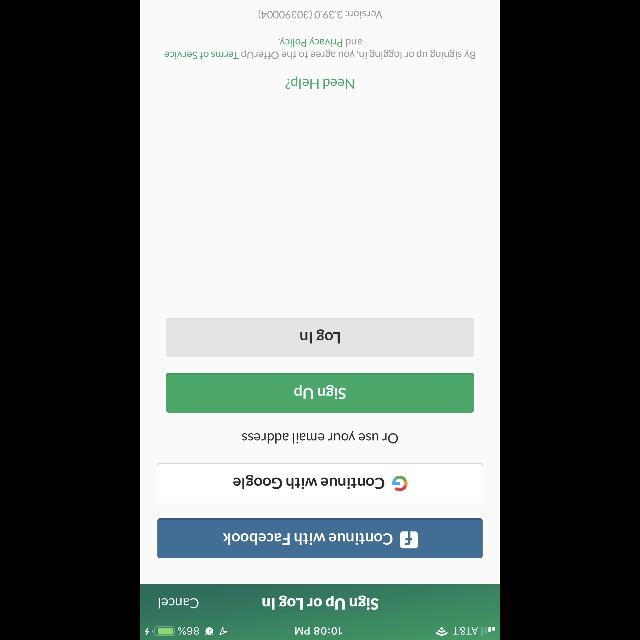text: (164, 37, 476, 59), (242, 431, 398, 444), (262, 594, 378, 610), (258, 9, 382, 19), (285, 76, 353, 90), (159, 598, 199, 608)
textbutton: (158, 462, 482, 502), (158, 518, 482, 558), (166, 373, 474, 413), (166, 318, 474, 357)
uppertaskbar: (140, 626, 500, 640)
